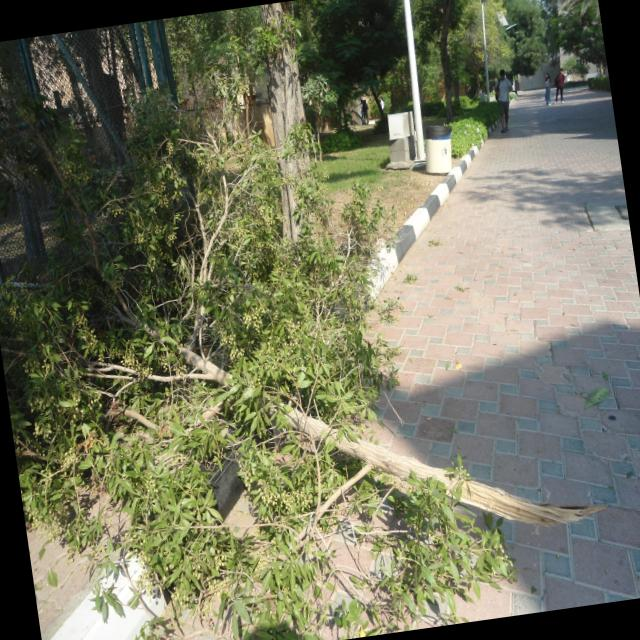bush: (451, 102, 500, 158), (451, 117, 487, 158)
path: (371, 90, 640, 622)
tree-chair-bench-table-wall: (0, 96, 599, 640), (294, 0, 410, 116), (483, 0, 608, 76), (410, 0, 484, 122)
